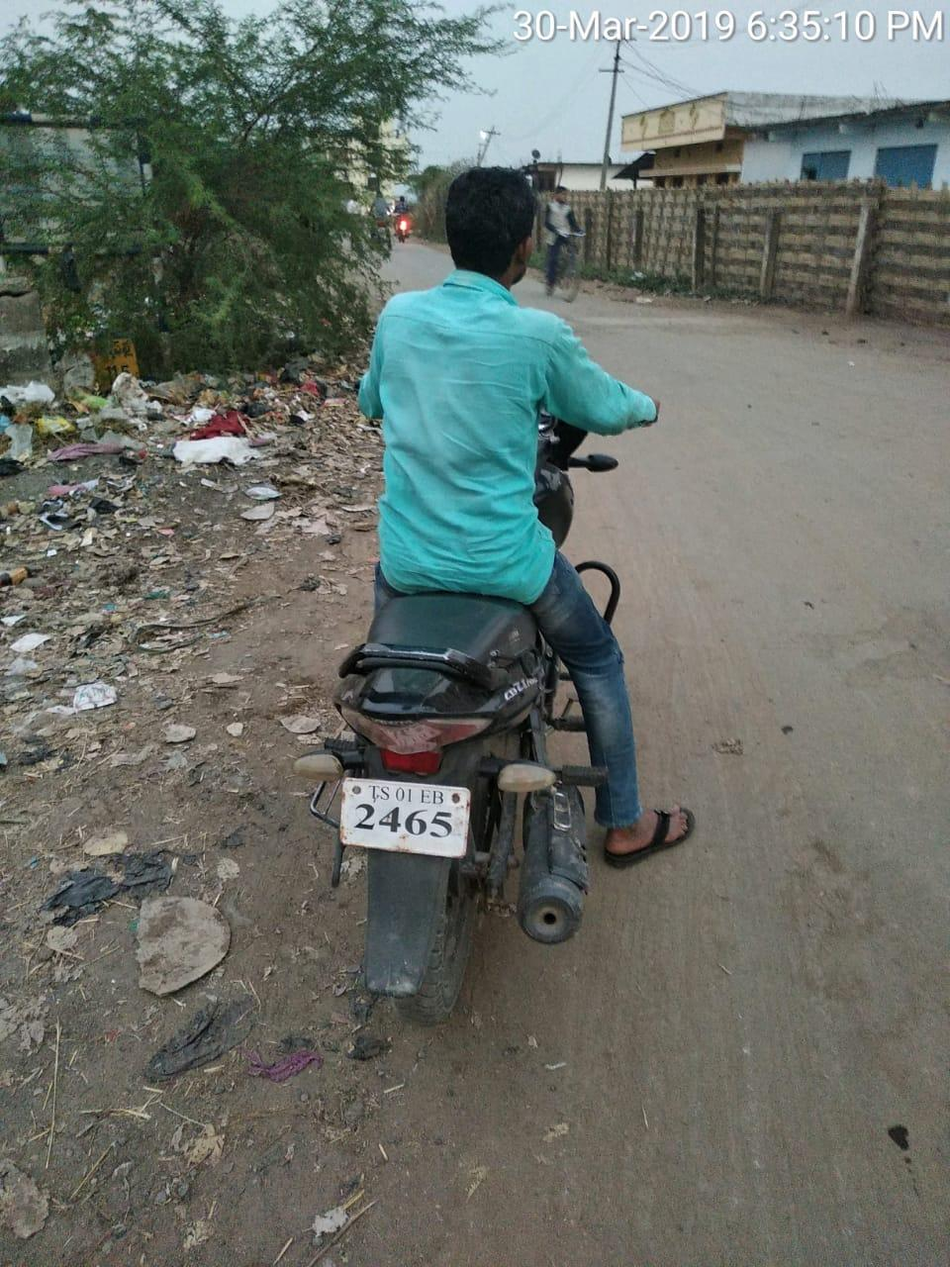plate: (327, 767, 487, 882)
